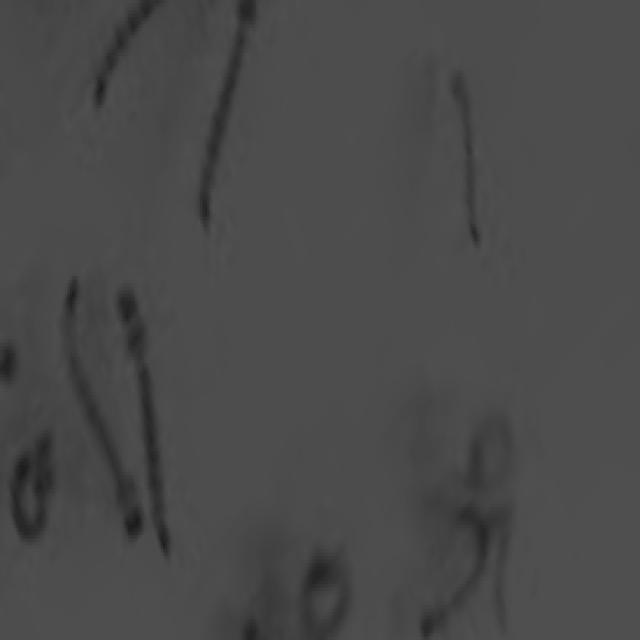larvas: (51, 271, 153, 551), (109, 290, 182, 559), (200, 0, 251, 220), (422, 514, 486, 640), (94, 2, 164, 103), (450, 75, 482, 249), (304, 559, 354, 636), (10, 446, 50, 541), (467, 422, 509, 486), (496, 514, 510, 625)
